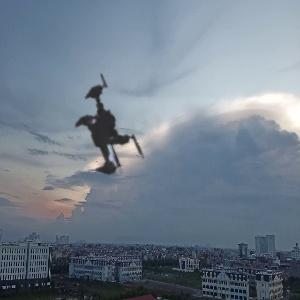drone: (10, 47, 187, 224)
